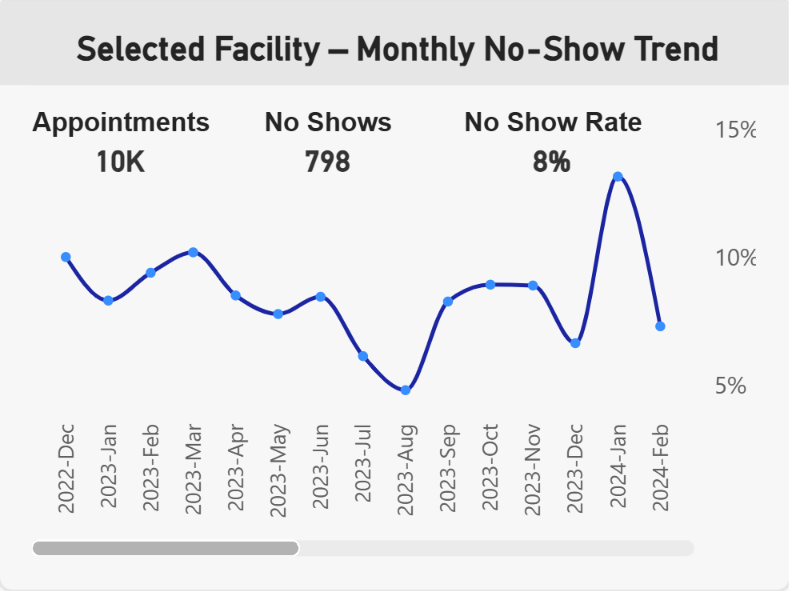

The page's visual inventory and layout, read from the dashboard file:
{"tool":"powerbi","page":{"name":"Facility Tooltip","canvas":[400,300],"ordinal":1},"visuals":[{"type":"lineChart","fields":{"Category":["Dim_Date.Year Month"],"Y2":["Fact_Encounters.No-Show Rate"]},"box":[0,0,400,300],"z":0},{"type":"advanceCardE03760C5AB684758B56AA29F9E6C257B","title":"Appointments","fields":{"mainMeasure":["Dim_Date.Total Appointments"]},"box":[15,56,95,39],"z":1},{"type":"advanceCardE03760C5AB684758B56AA29F9E6C257B","title":"No Shows","fields":{"mainMeasure":["Fact_Encounters.Total No-Shows"]},"box":[110,56,113,39],"z":2},{"type":"advanceCardE03760C5AB684758B56AA29F9E6C257B","title":" No Show Rate","fields":{"mainMeasure":["Fact_Encounters.No-Show Rate"]},"box":[223,56,113,39],"z":3}]}

Visuals, with their boxes in screenshot pixels (x1, y1, x2, y2), scaled from the page's 400x300 canvas onto the 789x591 screenshot:
lineChart - Dim_Date.Year Month x Fact_Encounters.No-Show Rate: left=0, top=0, right=788, bottom=590
"Appointments" advanceCardE03760C5AB684758B56AA29F9E6C257B: left=30, top=110, right=217, bottom=187
"No Shows" advanceCardE03760C5AB684758B56AA29F9E6C257B: left=217, top=110, right=440, bottom=187
" No Show Rate" advanceCardE03760C5AB684758B56AA29F9E6C257B: left=440, top=110, right=663, bottom=187
